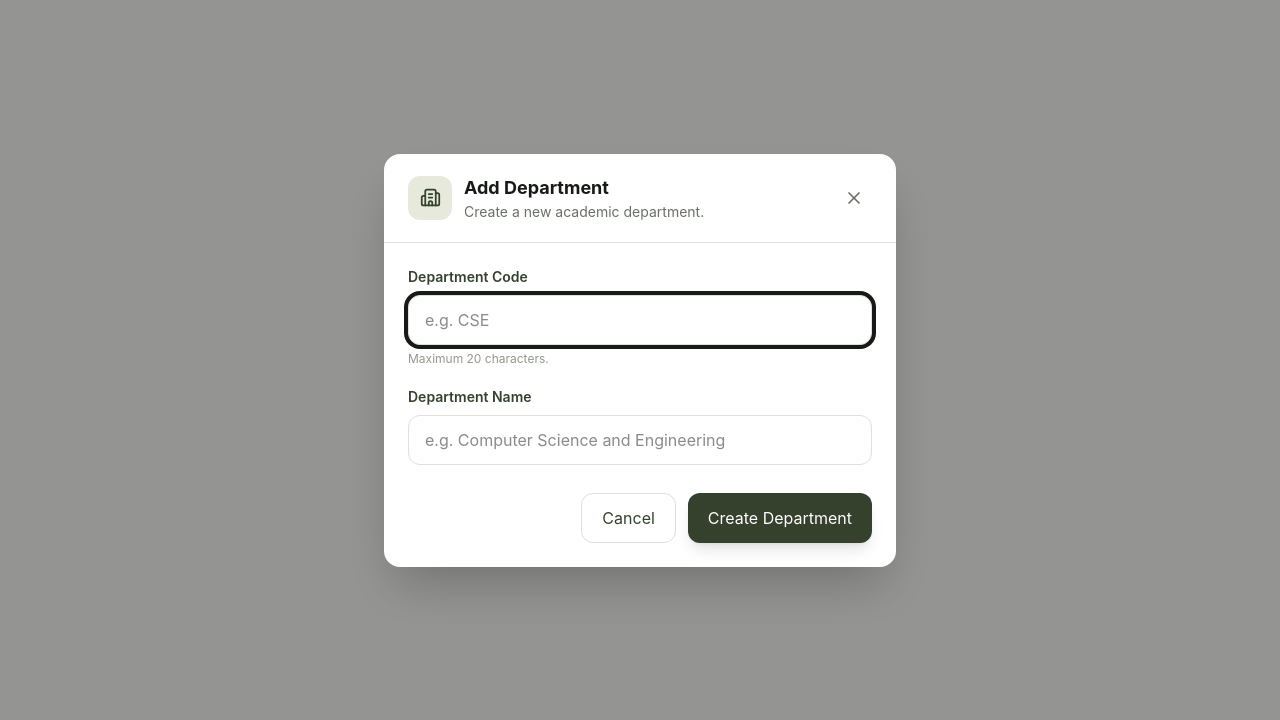
Test: Phase 10 — Master data forms › FRM-10.1: DepartmentForm blocks submit when required fields are empty
What coordinates should you click on to do the following:
click the button "Create Department"
I would click on:
 (780, 518)
Its box is x1=688 y1=492 x2=872 y2=542.
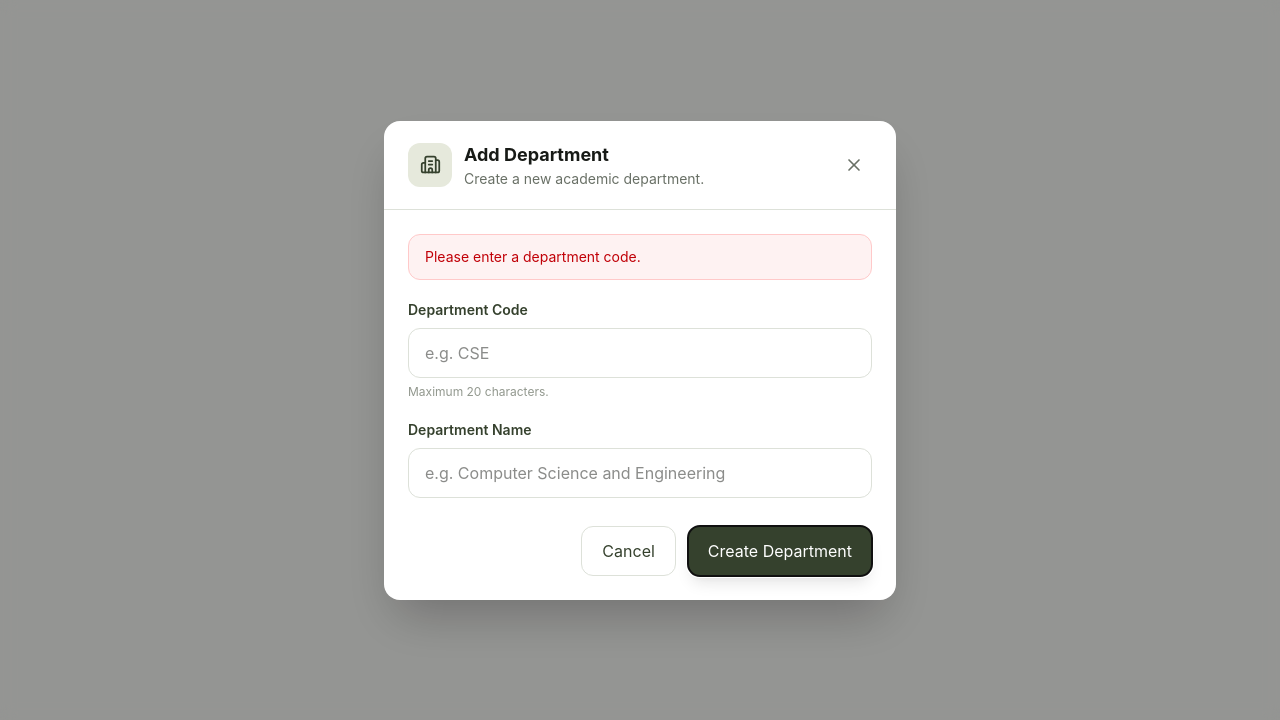
Now the text "Please enter a department code." is shown, box x1=408 y1=234 x2=872 y2=280
